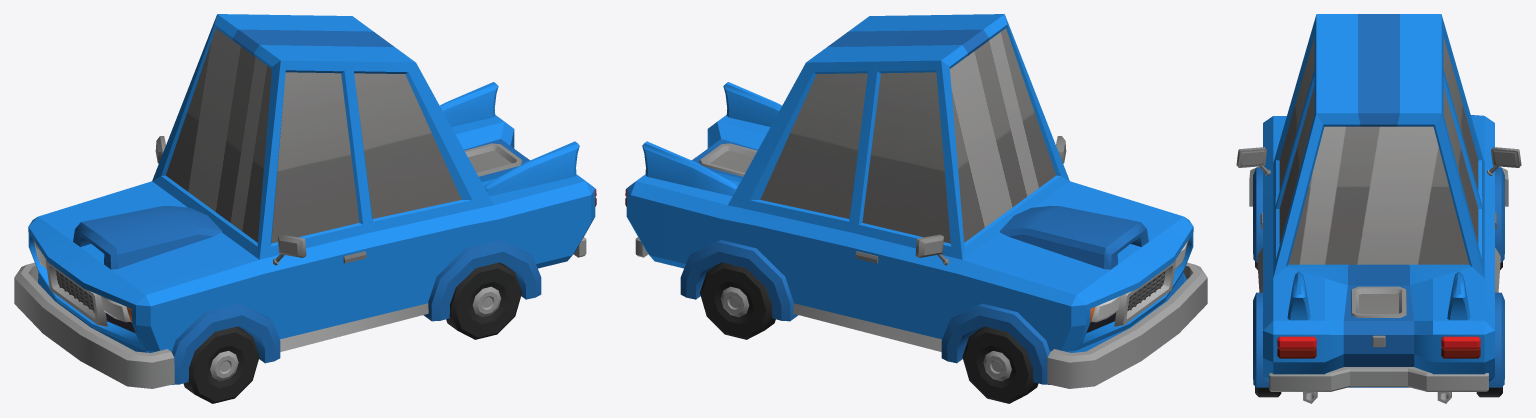
File: Car_11_G.gltf
3 renders of one model, left to right at view 1: azimuth 30°, elevation 25°; view 2: azimuth 150°, elevation 25°; view 3: azimuth 270°, elevation 25°, orthographic.
Parts seen in each view (by area): view 1: Car_11_G, RL, FL; view 2: Car_11_G, RR, FR; view 3: Car_11_G.
Boxes of the visible parts, left/top/right/bottom form: Car_11_G: left=14, top=14, right=596, bottom=388; RL: left=446, top=262, right=521, bottom=339; FL: left=183, top=326, right=259, bottom=403; Car_11_G: left=625, top=14, right=1207, bottom=388; RR: left=700, top=262, right=775, bottom=339; FR: left=962, top=326, right=1038, bottom=403; Car_11_G: left=1236, top=14, right=1521, bottom=403.
Bounding box in the file's own units: 3.58 × 2.1 × 1.85.
Materials: 3 (3 with a texture image).
